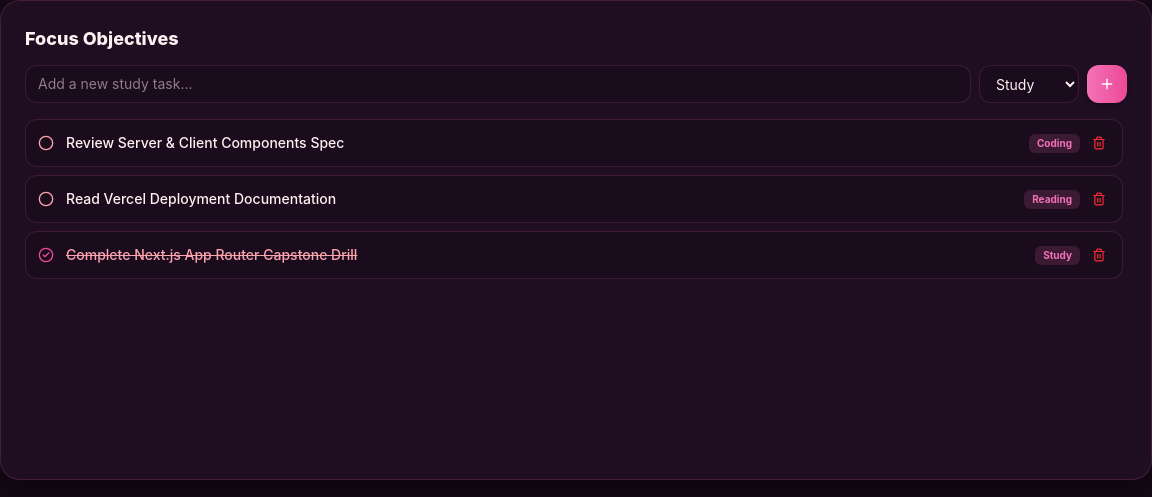
Test case: TaskManager Validated Form › allows adding a valid task
Use fireEvent for synchronous state updates in testing-library
Type "Write Playwright Tests" into the field named "New task title" at (498, 84), box left=25, top=65, right=971, bottom=103
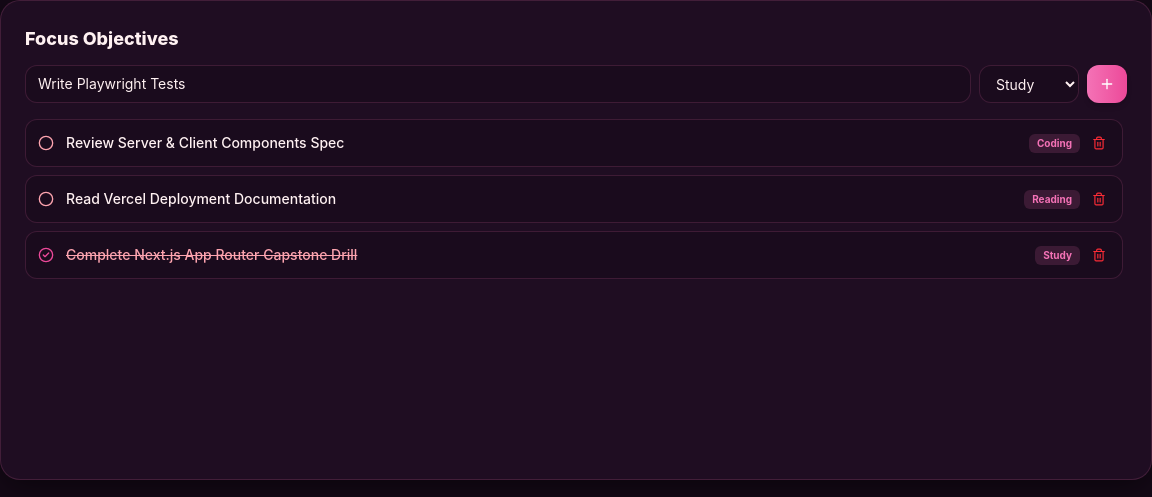
Click the button named "Add Task" at (1107, 84), box left=1087, top=65, right=1127, bottom=103
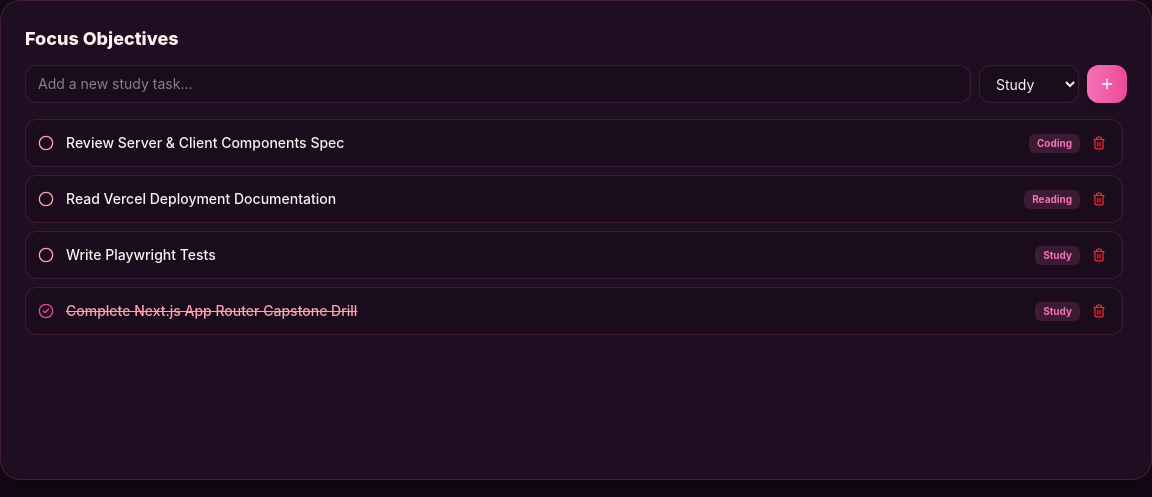
Result: the text "Write Playwright Tests" is shown at left=66, top=245, right=216, bottom=265
